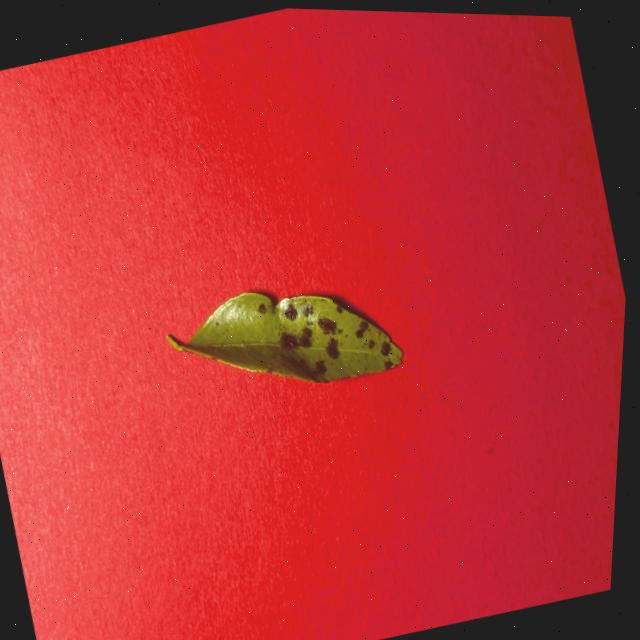sooty_mold: (167, 291, 402, 382)
